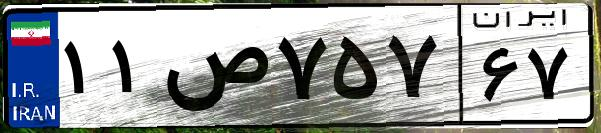1: (57, 26, 110, 100), (110, 28, 158, 98)
5: (330, 28, 385, 110)
6: (475, 38, 525, 113)
7: (270, 28, 330, 110), (385, 28, 445, 110), (525, 38, 570, 115)
ص: (158, 20, 270, 120)
